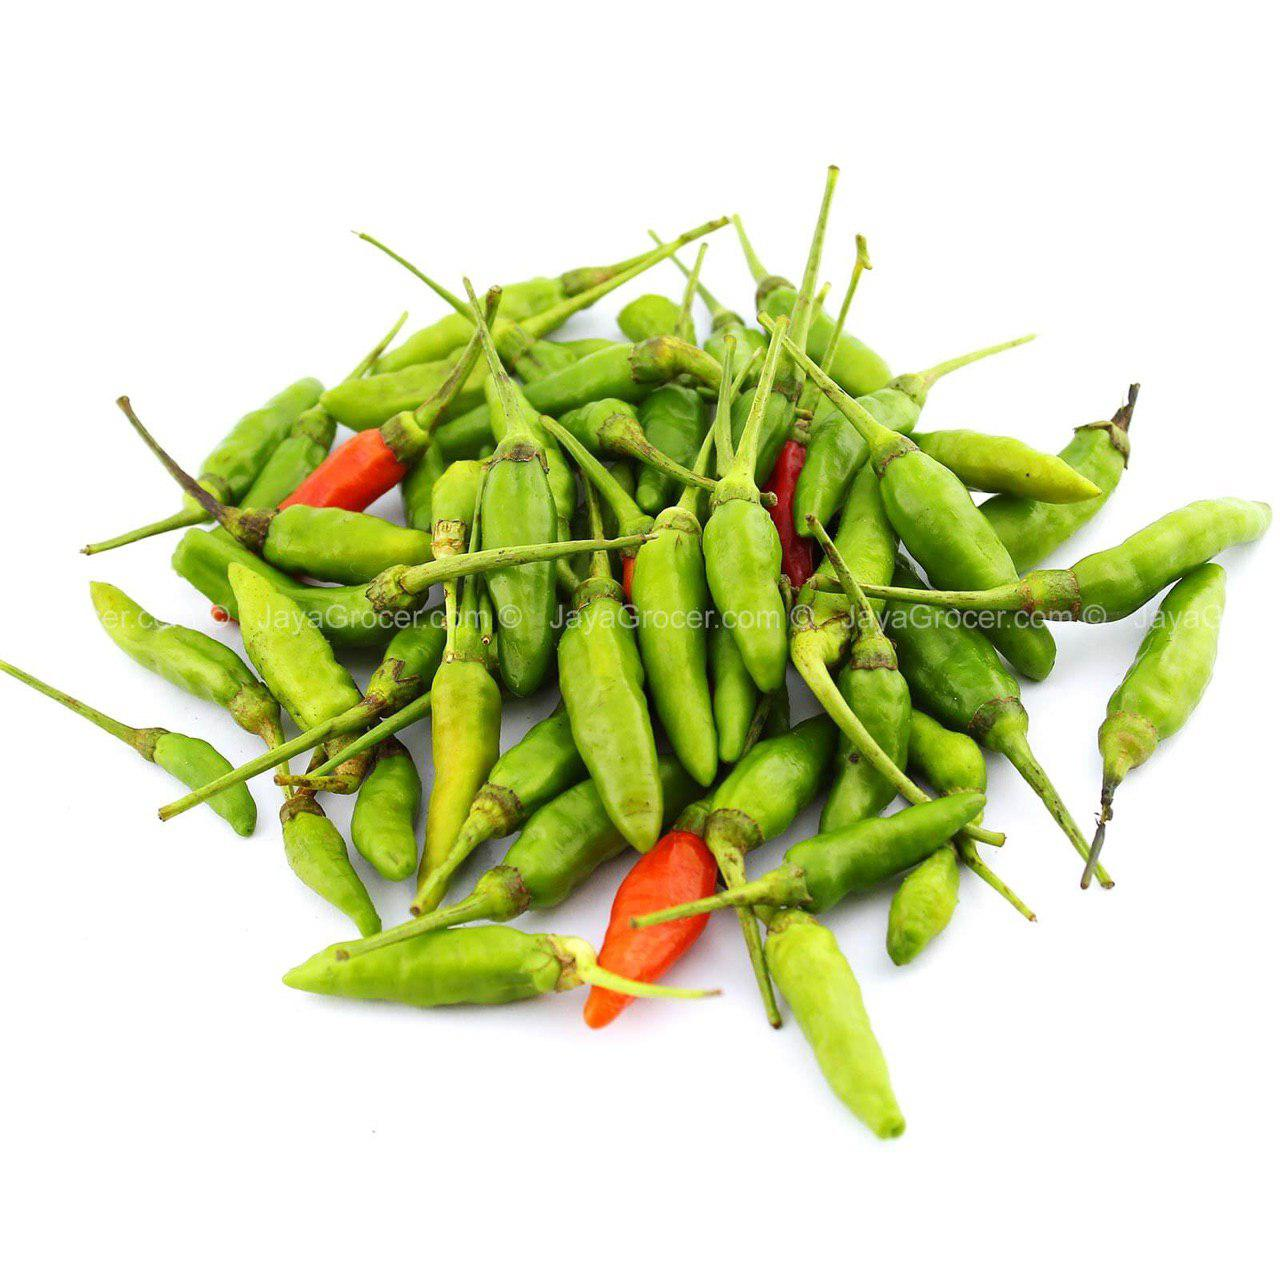lada hijau: (870, 427, 1042, 668), (1097, 542, 1241, 792), (1085, 452, 1278, 636), (760, 779, 1013, 915), (760, 925, 908, 1151), (91, 554, 258, 741), (407, 635, 505, 941), (293, 915, 566, 1024), (566, 583, 670, 855), (629, 517, 731, 790), (222, 565, 368, 753), (697, 468, 799, 700), (478, 414, 552, 685), (225, 498, 444, 572), (839, 639, 917, 840), (141, 723, 250, 823)
lada kuning: (583, 825, 735, 1049), (268, 404, 437, 539)
